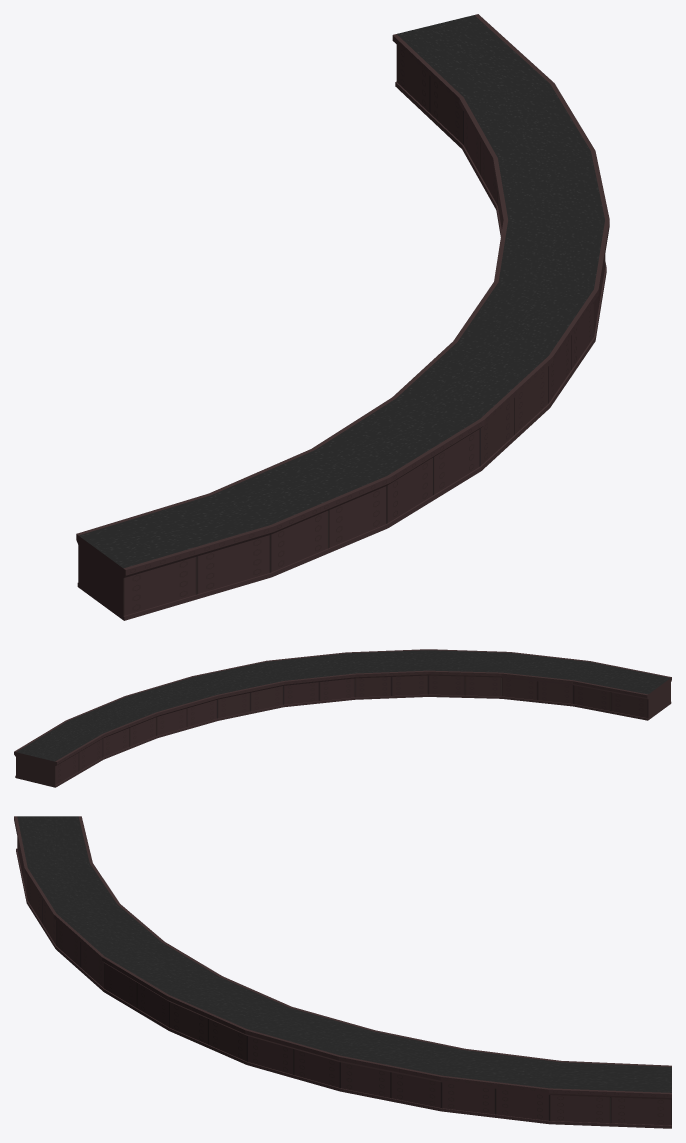
The model's file is SW_ENV_EL_TrackBase_SingleOuter.fbx.
3 renders of one model, top to bottom at view 1: azimuth 30°, elevation 25°; view 2: azimuth 150°, elevation 25°; view 3: azimuth 270°, elevation 25°, orthographic. The views are drawn at different scales.
Visible parts, largest first — view 1: SW_ENV_EL_TrackBase_SingleOuter; view 2: SW_ENV_EL_TrackBase_SingleOuter; view 3: SW_ENV_EL_TrackBase_SingleOuter.
Part boxes in pixels (x1,y1,x2,y2): SW_ENV_EL_TrackBase_SingleOuter: [76, 14, 609, 620]; SW_ENV_EL_TrackBase_SingleOuter: [14, 649, 671, 787]; SW_ENV_EL_TrackBase_SingleOuter: [14, 816, 671, 1128].
Bounding box in the file's own units: 3110 × 185 × 3110.
